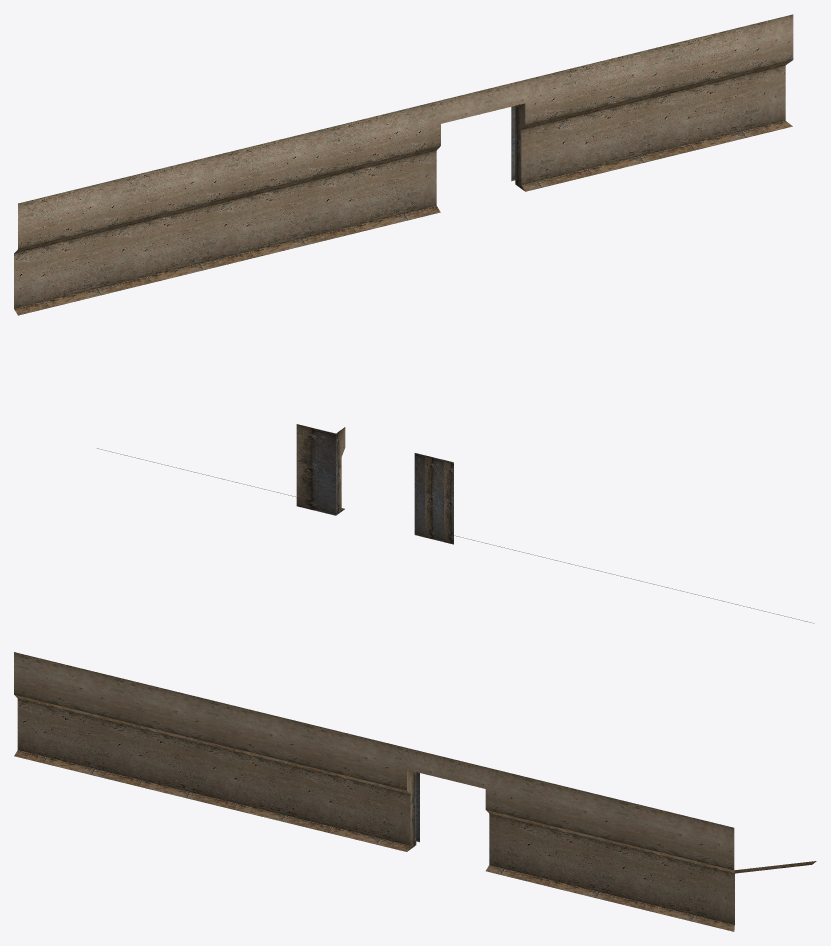
The model's file is M11_CompWallOuter_D.glb.
The picture shows the model from 3 angles, top to bottom: view 1: azimuth 30°, elevation 25°; view 2: azimuth 150°, elevation 25°; view 3: azimuth 330°, elevation 25°; orthographic projection. The views are drawn at different scales.
Parts seen in each view (by area): view 1: M11_COMPWALLOUTER_D; view 2: M11_COMPWALLOUTER_D; view 3: M11_COMPWALLOUTER_D.
Part boxes in pixels (box(x1,y1,x2,y2)): M11_COMPWALLOUTER_D: box(14, 14, 793, 315); M11_COMPWALLOUTER_D: box(97, 424, 814, 623); M11_COMPWALLOUTER_D: box(14, 652, 816, 931).
Size of the model in its own units: 59 by 7.6 by 4.25.
Materials: 3 (3 with a texture image).
